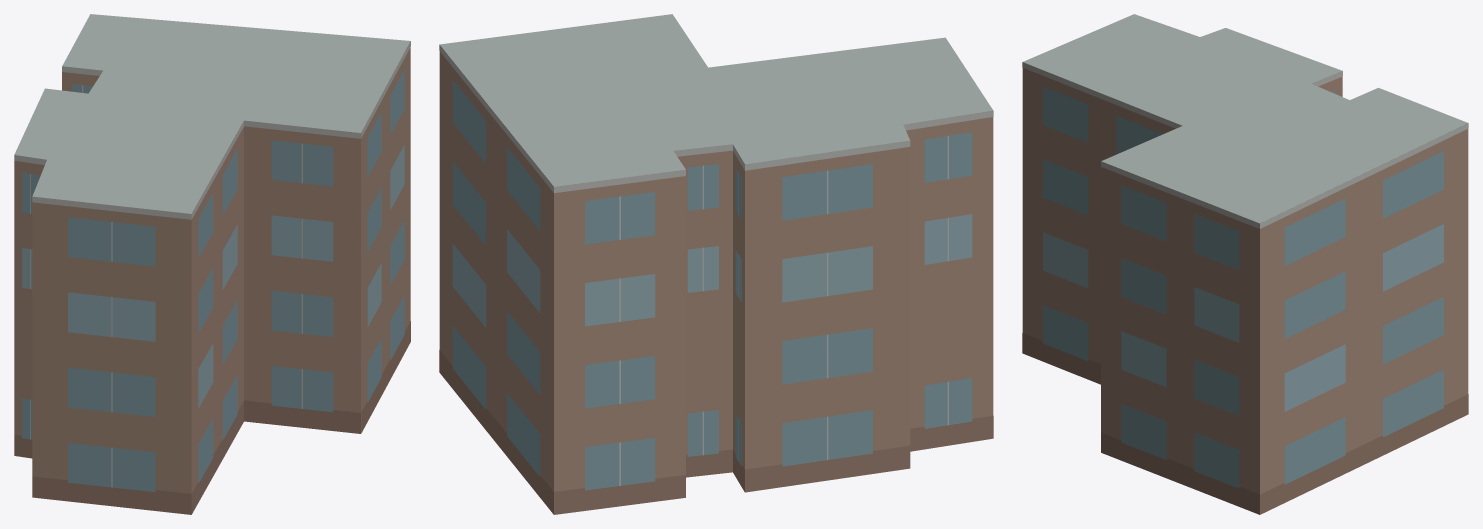
Rendered from survey-upis-32605188.glb.
3 renders of one model, left to right at view 1: azimuth 30°, elevation 25°; view 2: azimuth 150°, elevation 25°; view 3: azimuth 270°, elevation 25°, orthographic. The views are drawn at different scales.
Visible parts, largest first — view 1: survey-upis-32605188.tmp; view 2: survey-upis-32605188.tmp; view 3: survey-upis-32605188.tmp.
Boxes of the visible parts, <box> form: survey-upis-32605188.tmp: <box>14,14,410,514</box>; survey-upis-32605188.tmp: <box>439,14,993,514</box>; survey-upis-32605188.tmp: <box>1022,14,1468,514</box>.
Size of the model in its own units: 19.63 by 12.73 by 17.66.
